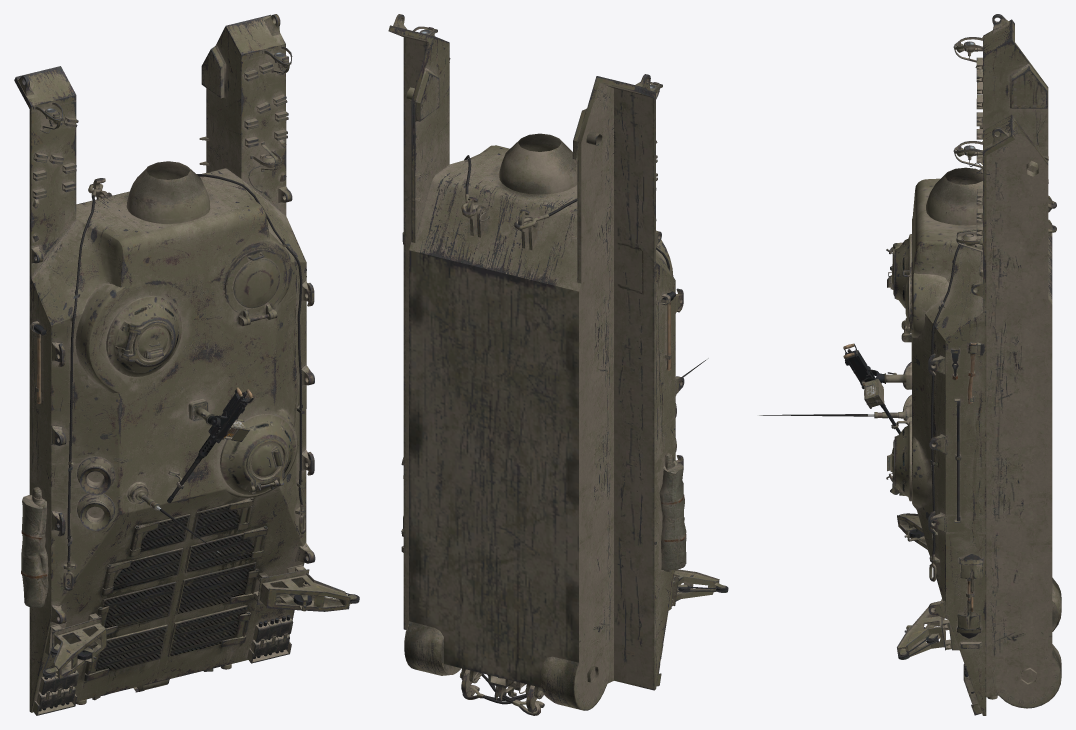
The model's file is Hull.glb.
The picture shows the model from 3 angles, left to right: view 1: azimuth 30°, elevation 25°; view 2: azimuth 150°, elevation 25°; view 3: azimuth 270°, elevation 25°; orthographic projection. The views are drawn at different scales.
Visible parts, largest first — view 1: set_0_group_0; view 2: set_0_group_0; view 3: set_0_group_0.
Boxes of the visible parts, box(x1,y1,x2,y2) form: set_0_group_0: box(14, 14, 359, 715); set_0_group_0: box(388, 14, 728, 715); set_0_group_0: box(757, 14, 1061, 715).
Bounding box in the file's own units: 3.88 × 7.74 × 3.49.
Materials: 1 (1 with a texture image).
